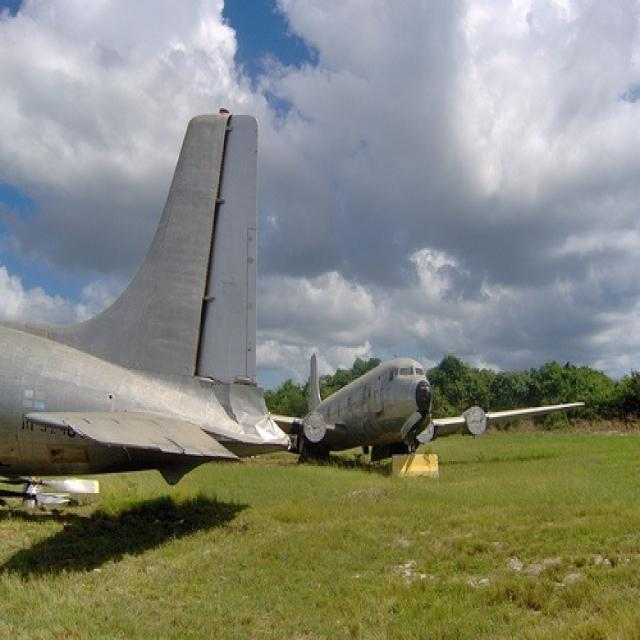aeroplane: (0, 113, 291, 485), (272, 351, 582, 458)
